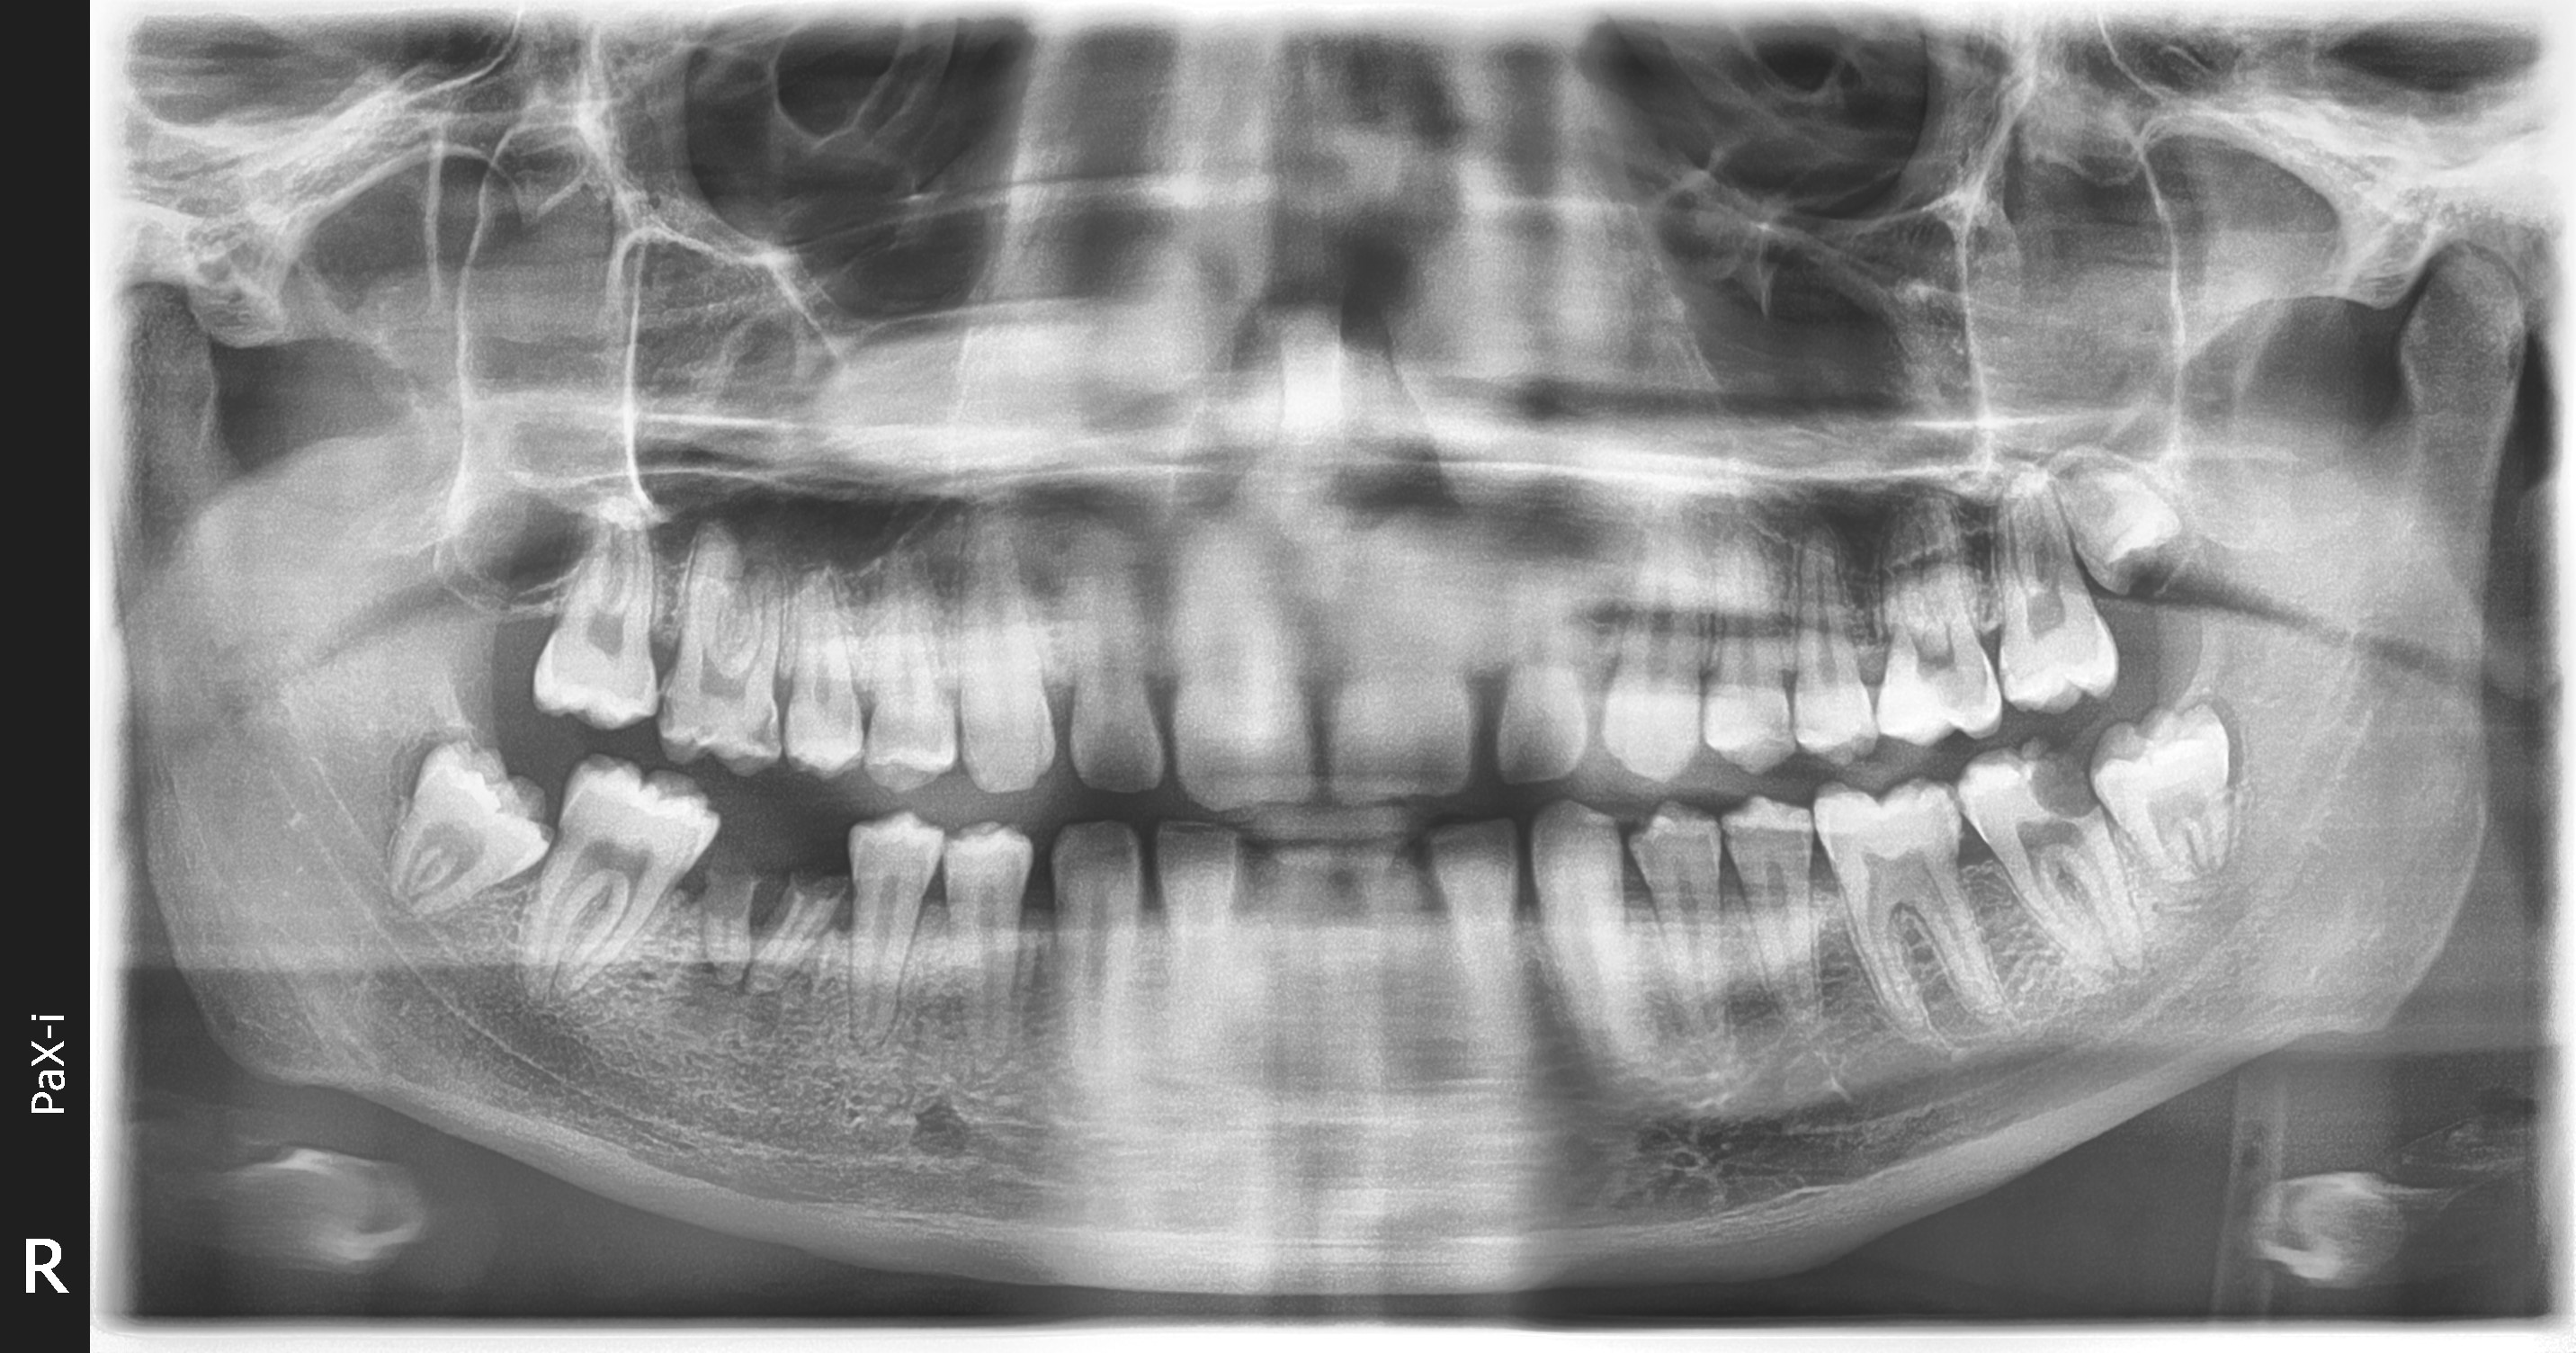API: (656, 932, 787, 1062)
CAR: (2012, 738, 2140, 874), (693, 697, 799, 774)
IMT: (377, 712, 559, 975), (2087, 738, 2281, 922), (2043, 409, 2225, 603)
ROT: (681, 813, 825, 1002)
